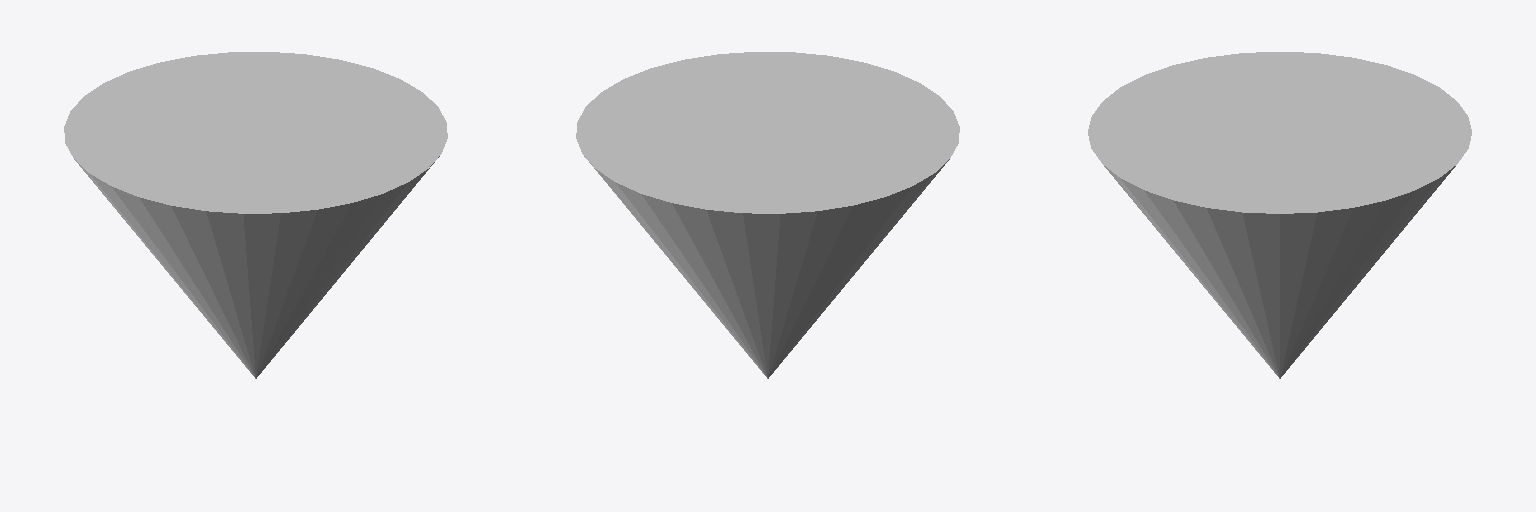
Rendered from beyblade.obj.
3 renders of one model, left to right at view 1: azimuth 30°, elevation 25°; view 2: azimuth 150°, elevation 25°; view 3: azimuth 270°, elevation 25°, orthographic.
Parts seen in each view (by area): view 1: Cone; view 2: Cone; view 3: Cone.
Boxes of the visible parts, x1,y1,x2,y2 form: Cone: [64, 52, 447, 378]; Cone: [576, 52, 959, 378]; Cone: [1088, 52, 1471, 378].
Bounding box in the file's own units: 1 × 0.7069 × 1.